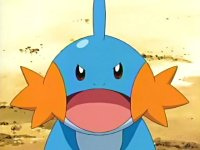mudkip: (11, 1, 189, 149)
